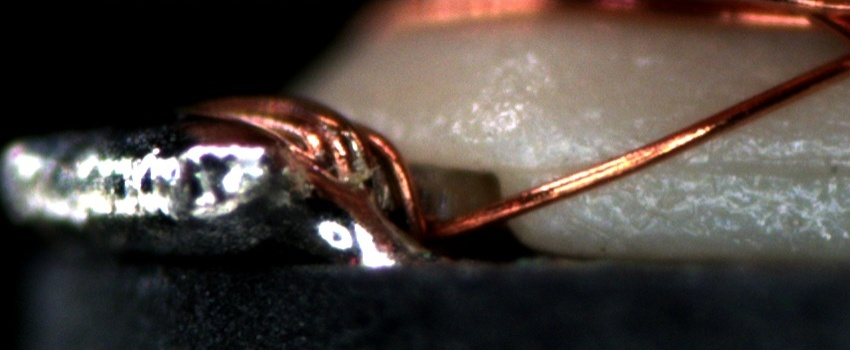DL: (570, 132, 850, 196)
TE: (205, 89, 436, 246)
